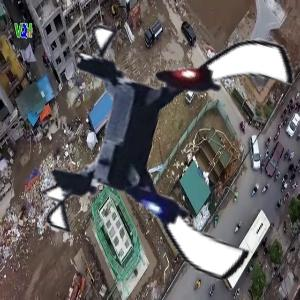drone: (48, 16, 297, 265)
